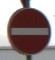No entry: (5, 6, 50, 55)
